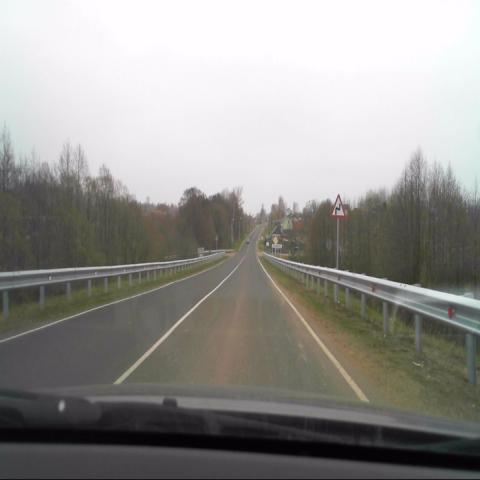1_12: (330, 194, 344, 217)
